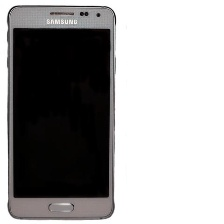phone: (4, 2, 121, 222)
